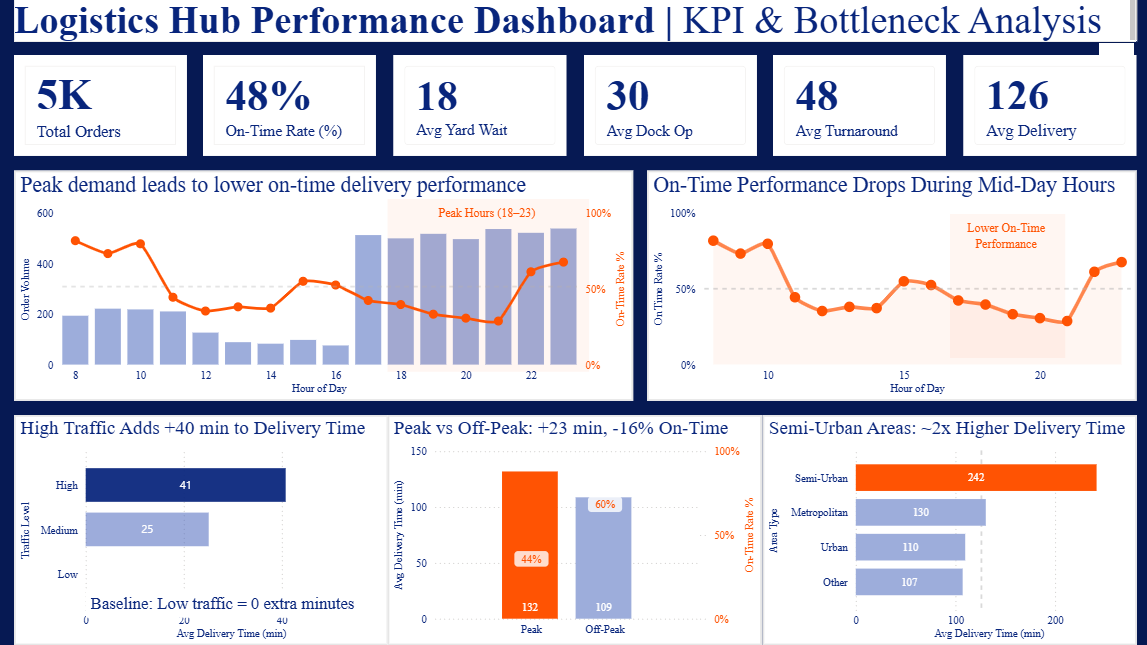

This screenshot's page, from the dashboard's own definition file:
{"tool":"powerbi","page":{"name":"Pagina 1","canvas":[1280,720],"ordinal":0},"visuals":[{"type":"textbox","box":[16,0,1248,48],"z":0},{"type":"lineChart","title":"On-Time Performance Drops During Mid-Day Hours","fields":{"Category":["Amazon_Delivery.Hour"],"Y":["Amazon_Delivery.On-Time Rate %"]},"box":[720,192,544,256],"z":1000},{"type":"cardVisual","fields":{"Data":["Amazon_Delivery.Total Orders"]},"box":[16,64,192,112],"z":2000},{"type":"cardVisual","fields":{"Data":["Amazon_Delivery.Avg Delivery Time"]},"box":[1072,64,192,112],"z":3000},{"type":"cardVisual","fields":{"Data":["Amazon_Delivery.Avg Yard Waiting"]},"box":[384,304,240,112],"z":4000},{"type":"lineClusteredColumnComboChart","title":"Peak demand leads to lower on-time delivery performance","fields":{"Category":["Amazon_Delivery.Hour"],"Y":["CountNonNull(Amazon_Delivery.Order_ID)"],"Y2":["Amazon_Delivery.On-Time Rate %"]},"box":[16,192,688,256],"z":5000},{"type":"barChart","title":"High Traffic Adds +40 min to Delivery Time","fields":{"Category":["Amazon_Delivery.Traffic_Condition"],"Y":["Amazon_Delivery.Extra Minutes vs Low"]},"box":[16,464,416,256],"z":6000},{"type":"barChart","title":"Semi-Urban Areas: ~2x Higher Delivery Time","fields":{"Y":["Amazon_Delivery.Avg Delivery Time"],"Category":["Amazon_Delivery.Geographic_Area"]},"box":[848,464,416,256],"z":7000},{"type":"lineStackedColumnComboChart","title":"Peak vs Off-Peak: +23 min, -16% On-Time","fields":{"Category":["Amazon_Delivery.Peak_Status"],"Y":["Amazon_Delivery.Avg Delivery Time"],"Y2":["Amazon_Delivery.On-Time Rate %"]},"box":[432,464,416,256],"z":8000},{"type":"shape","box":[1056,240,128,160],"z":9000},{"type":"cardVisual","fields":{"Data":["Amazon_Delivery.Avg Hub Turnaround"]},"box":[860.8,64,192,112],"z":10000},{"type":"textbox","box":[1056,240,128,48],"z":11000},{"type":"cardVisual","fields":{"Data":["Amazon_Delivery.On-Time Rate %"]},"box":[227.2,64,192,112],"z":12000},{"type":"shape","box":[432,224,224,192],"z":13000},{"type":"textbox","box":[432,224,224,32],"z":14000},{"type":"cardVisual","fields":{"Data":["Amazon_Delivery.Avg Dock Operation"]},"box":[649.6,64,192,112],"z":15000},{"type":"cardVisual","fields":{"Data":["Amazon_Delivery.Avg Yard Waiting"]},"box":[438.4,64,192,112],"z":16000},{"type":"textbox","box":[96,656,320,32],"z":17000}]}

Visuals, with their boxes in screenshot pixels (x1, y1, x2, y2), scaled from the page's 1280x720 canvas onto the 1147x645 screenshot:
textbox: <bbox>14, 0, 1133, 43</bbox>
"On-Time Performance Drops During Mid-Day Hours" lineChart: <bbox>645, 172, 1133, 401</bbox>
cardVisual - Amazon_Delivery.Total Orders: <bbox>14, 57, 186, 158</bbox>
cardVisual - Amazon_Delivery.Avg Delivery Time: <bbox>961, 57, 1133, 158</bbox>
cardVisual - Amazon_Delivery.Avg Yard Waiting: <bbox>344, 272, 559, 373</bbox>
"Peak demand leads to lower on-time delivery performance" lineClusteredColumnComboChart: <bbox>14, 172, 631, 401</bbox>
"High Traffic Adds +40 min to Delivery Time" barChart: <bbox>14, 416, 387, 644</bbox>
"Semi-Urban Areas: ~2x Higher Delivery Time" barChart: <bbox>760, 416, 1133, 644</bbox>
"Peak vs Off-Peak: +23 min, -16% On-Time" lineStackedColumnComboChart: <bbox>387, 416, 760, 644</bbox>
shape: <bbox>946, 215, 1061, 358</bbox>
cardVisual - Amazon_Delivery.Avg Hub Turnaround: <bbox>771, 57, 943, 158</bbox>
textbox: <bbox>946, 215, 1061, 258</bbox>
cardVisual - Amazon_Delivery.On-Time Rate %: <bbox>204, 57, 376, 158</bbox>
shape: <bbox>387, 201, 588, 373</bbox>
textbox: <bbox>387, 201, 588, 229</bbox>
cardVisual - Amazon_Delivery.Avg Dock Operation: <bbox>582, 57, 754, 158</bbox>
cardVisual - Amazon_Delivery.Avg Yard Waiting: <bbox>393, 57, 565, 158</bbox>
textbox: <bbox>86, 588, 373, 616</bbox>
